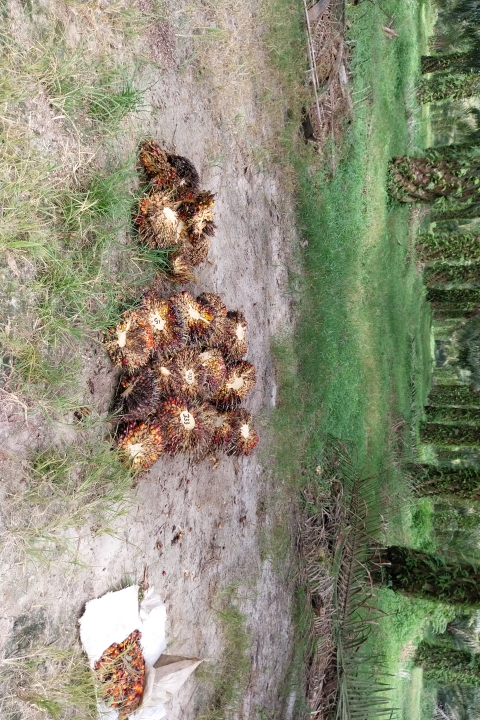janjang: (109, 307, 157, 371), (136, 188, 180, 249), (120, 423, 167, 472)
